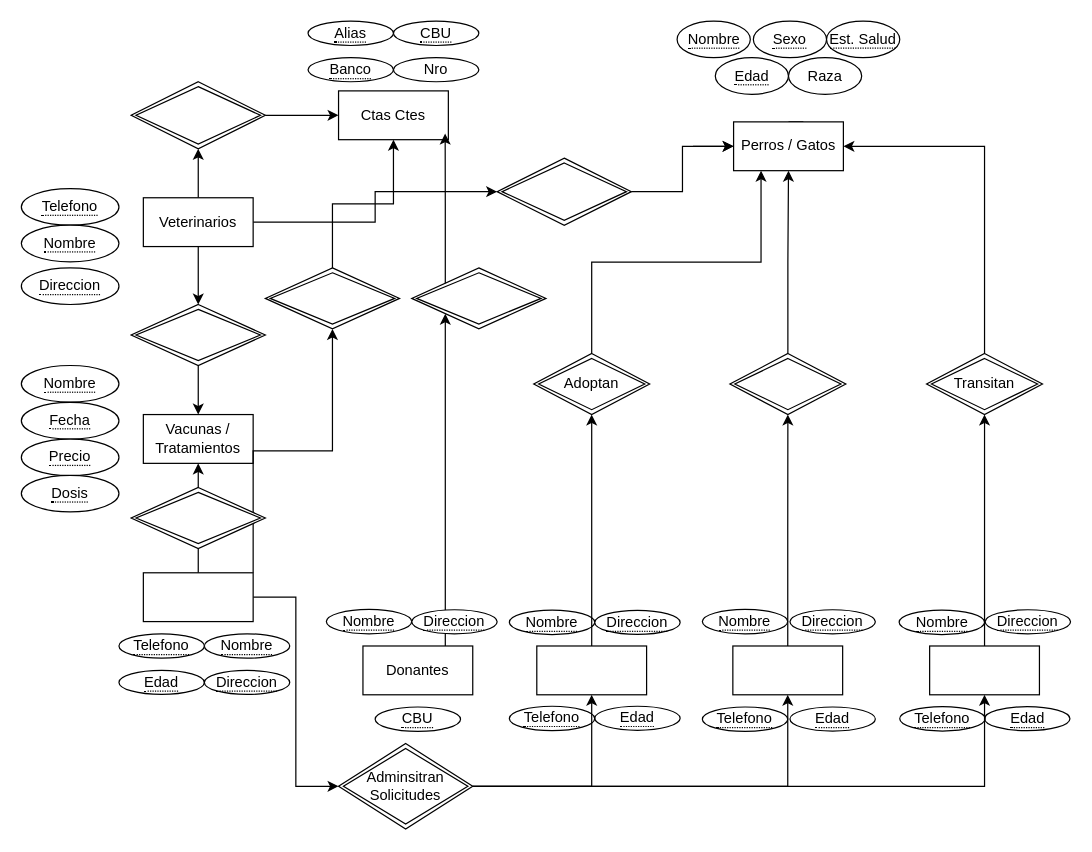
This 1092x852 diagram has some shape labels left out. The shapes that lost their labels are listed below. From the top down, each one's centre as x and y in pixels, then its label:
(x=197, y=115): Cobran
(x=563, y=191): Atienden
(x=332, y=298): Administran
(x=478, y=298): Aportan
(x=197, y=334): Aplican
(x=787, y=383): Rescatan
(x=197, y=517): Solicitan
(x=197, y=597): Admnistradores
(x=591, y=670): Adoptantes
(x=787, y=670): Rescatantes
(x=983, y=670): Transitantes
